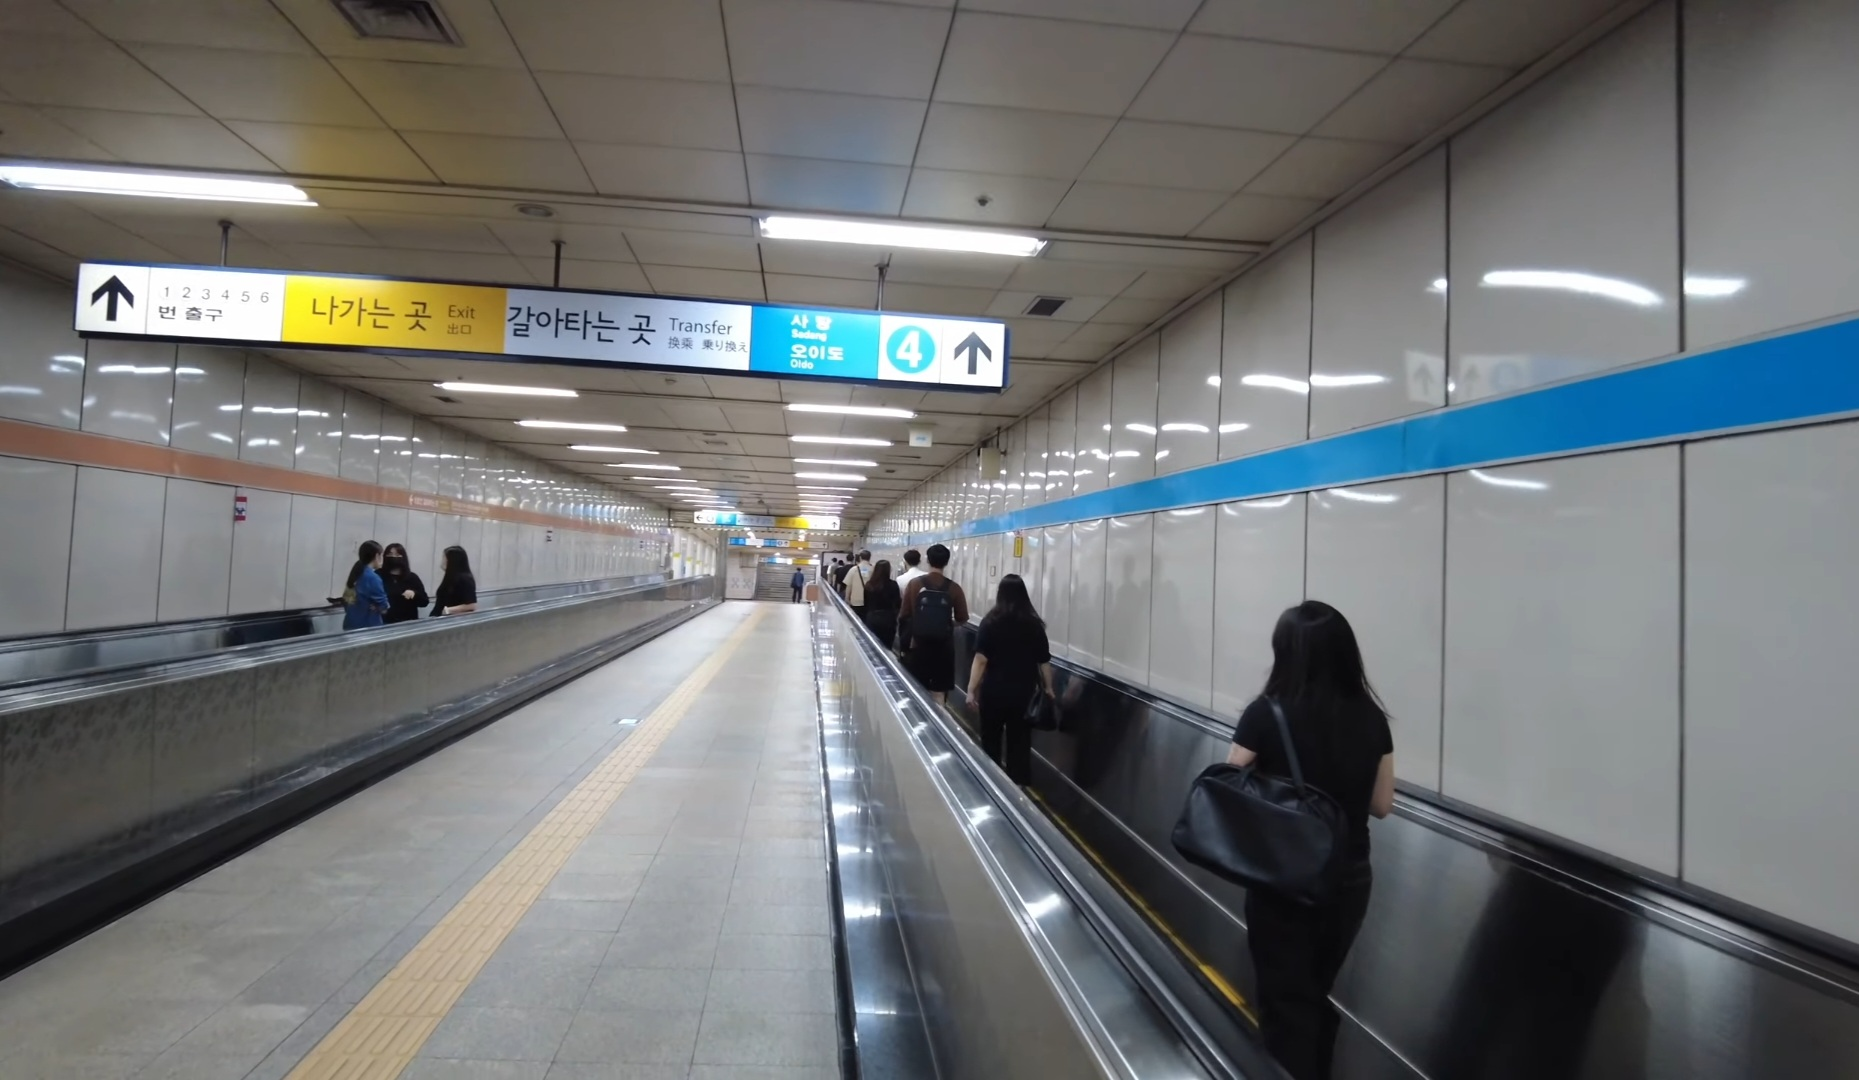signBoard: (63, 207, 1039, 413)
